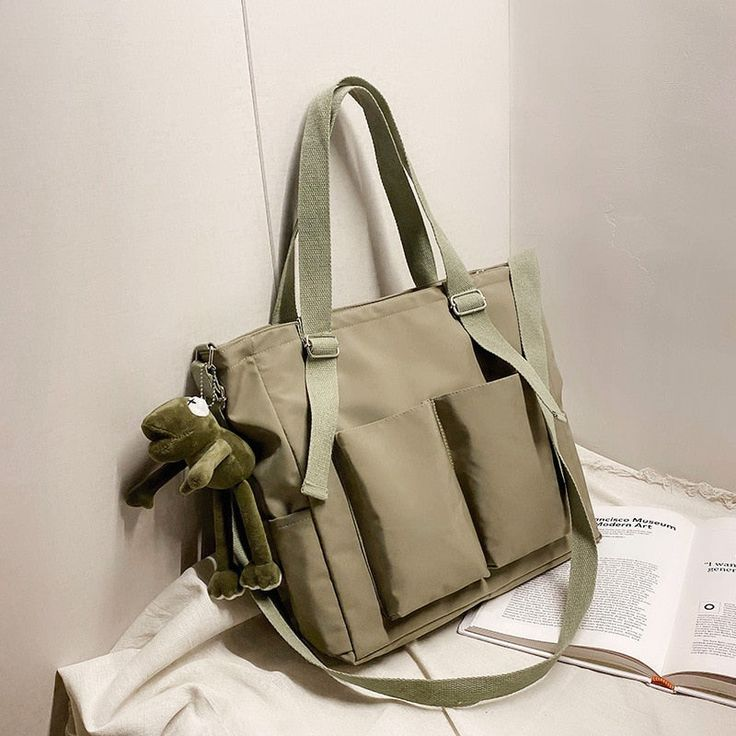nylon: (194, 77, 602, 709)
